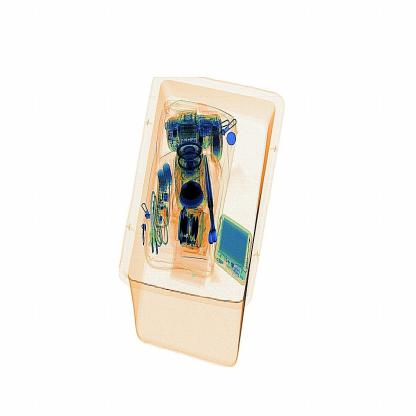gun: (194, 148, 222, 252)
